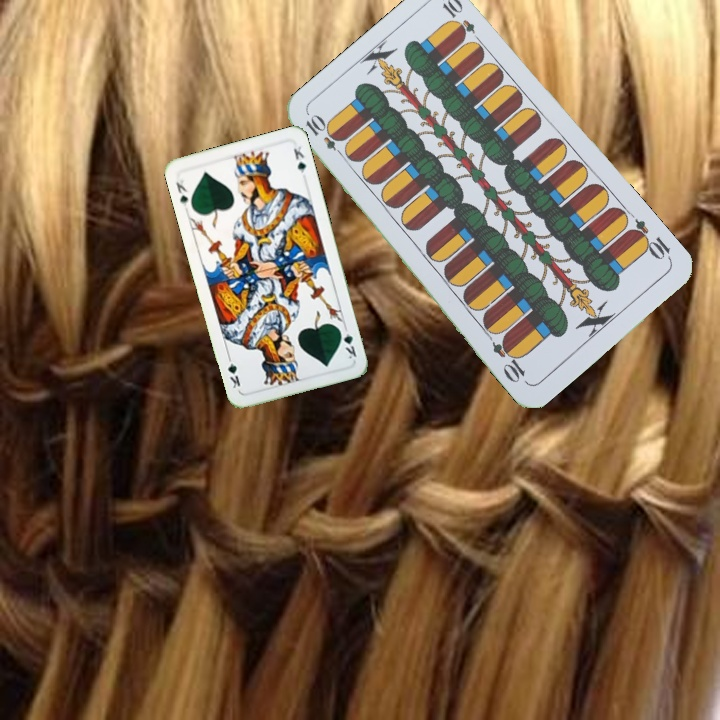E10: (624, 215, 674, 264), (301, 111, 349, 161)
GK: (335, 322, 359, 361), (172, 176, 191, 209)
